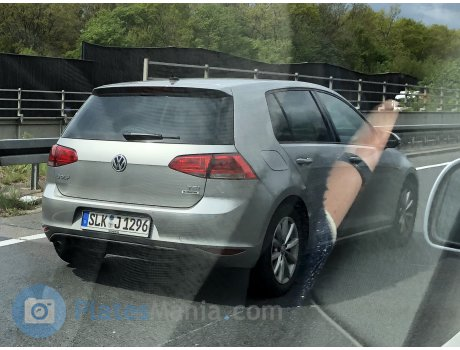License Plates: (83, 211, 149, 230)
